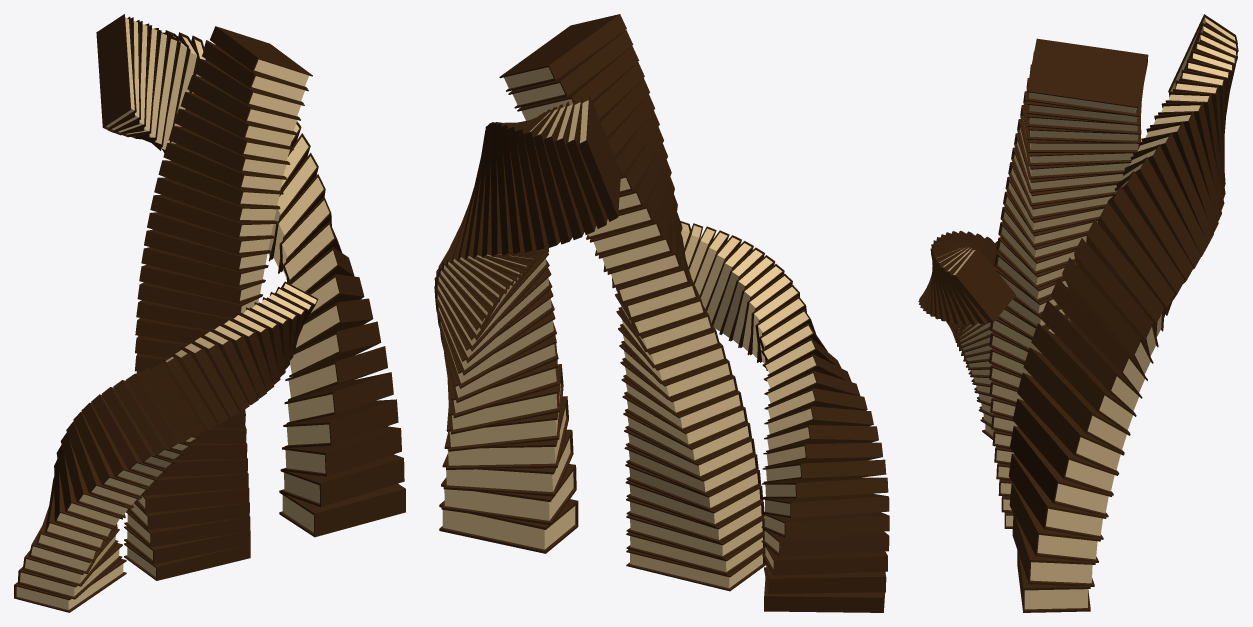
The model's file is BookTriStack.fbx.
3 renders of one model, left to right at view 1: azimuth 30°, elevation 25°; view 2: azimuth 150°, elevation 25°; view 3: azimuth 270°, elevation 25°, orthographic. The views are drawn at different scales.
Visible parts, largest first — view 1: BookTriStack.001; view 2: BookTriStack.001; view 3: BookTriStack.001.
Part boxes in pixels (x1,y1,x2,y2): BookTriStack.001: [14, 14, 405, 612]; BookTriStack.001: [434, 14, 889, 612]; BookTriStack.001: [918, 14, 1238, 612].
Bounding box in the file's own units: 819 × 983 × 567.
